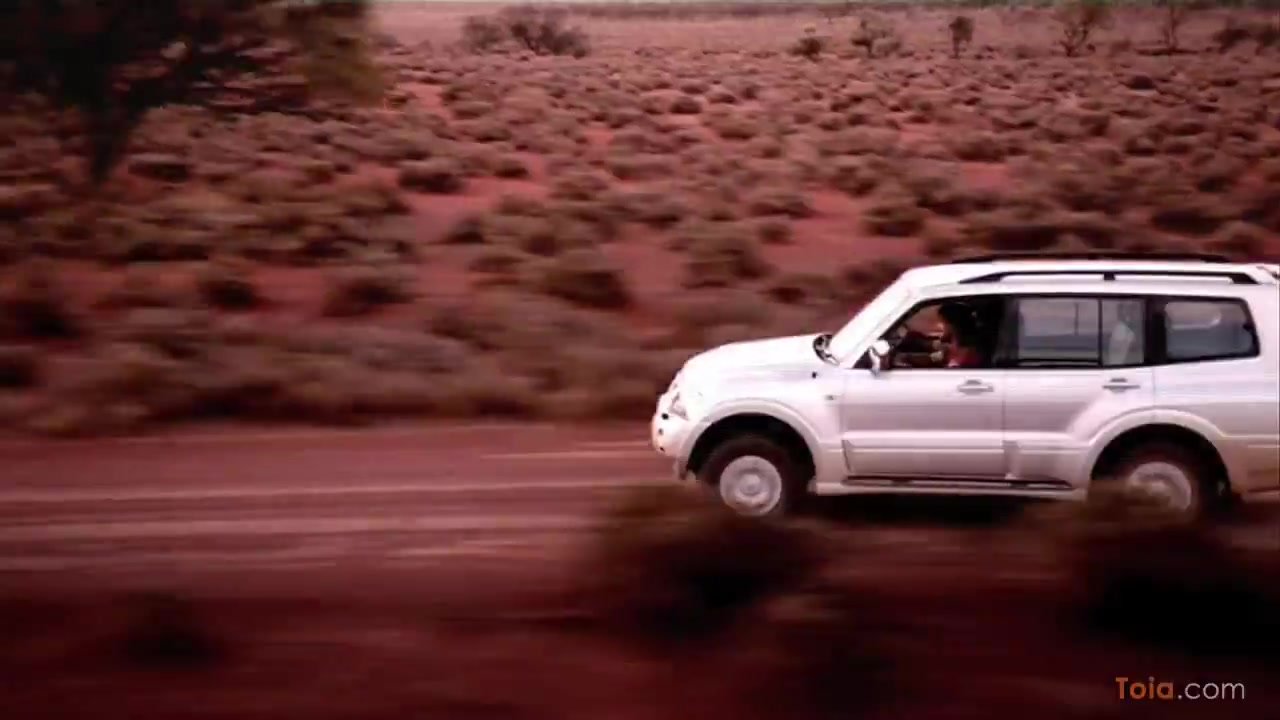car: (646, 253, 1280, 536)
